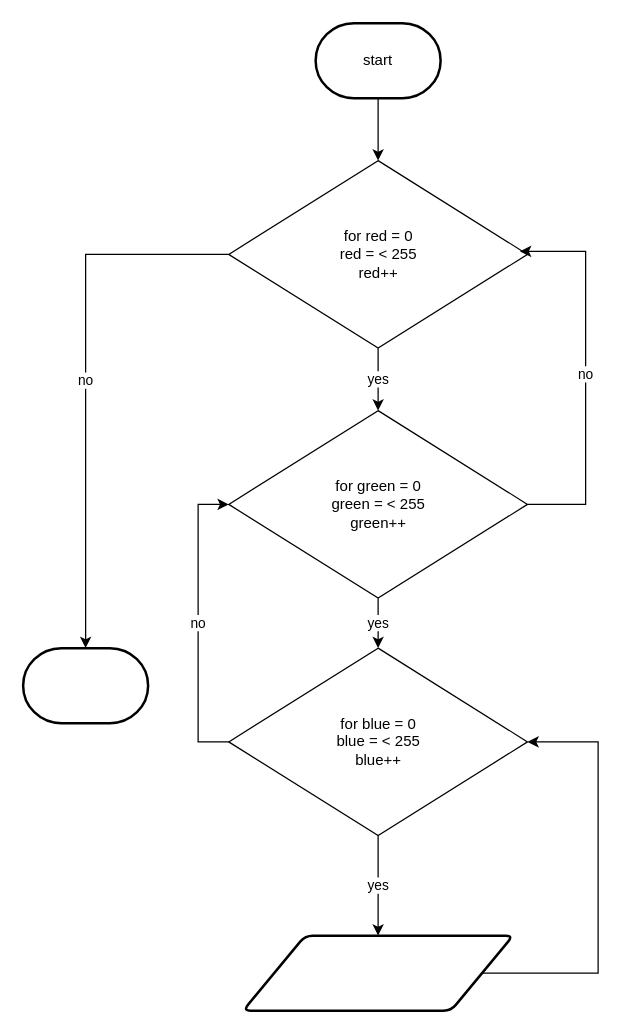
Some shapes in this 630 by 1033 pixel diagram are drawn without their labels. The shapes that lost their labels are listed below. From the top down, each one's box as (x1, y1, x2, y2) in pixels, then its label:
(21, 646, 149, 724): end
(241, 934, 514, 1011): output red, green, blue
